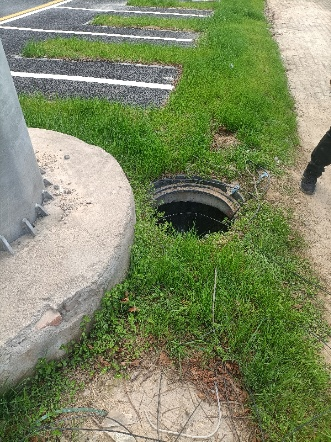lose: (139, 176, 249, 243)
